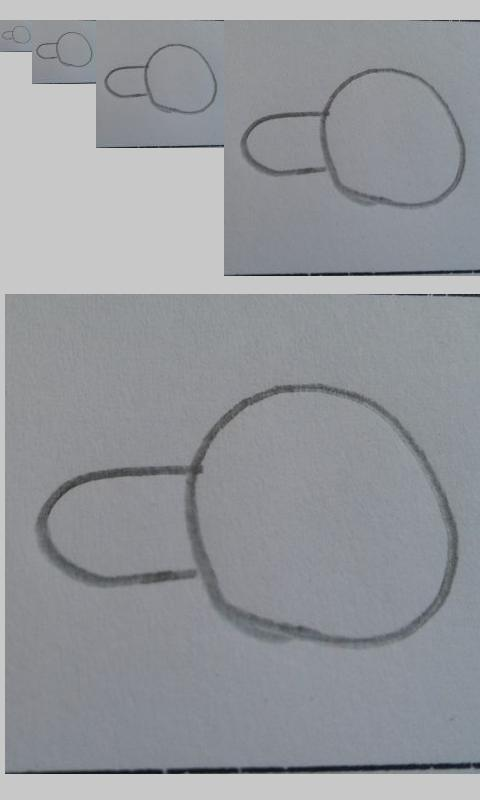switch: (35, 383, 461, 649), (239, 68, 467, 210), (104, 43, 218, 115), (35, 32, 93, 68), (1, 25, 32, 44)
